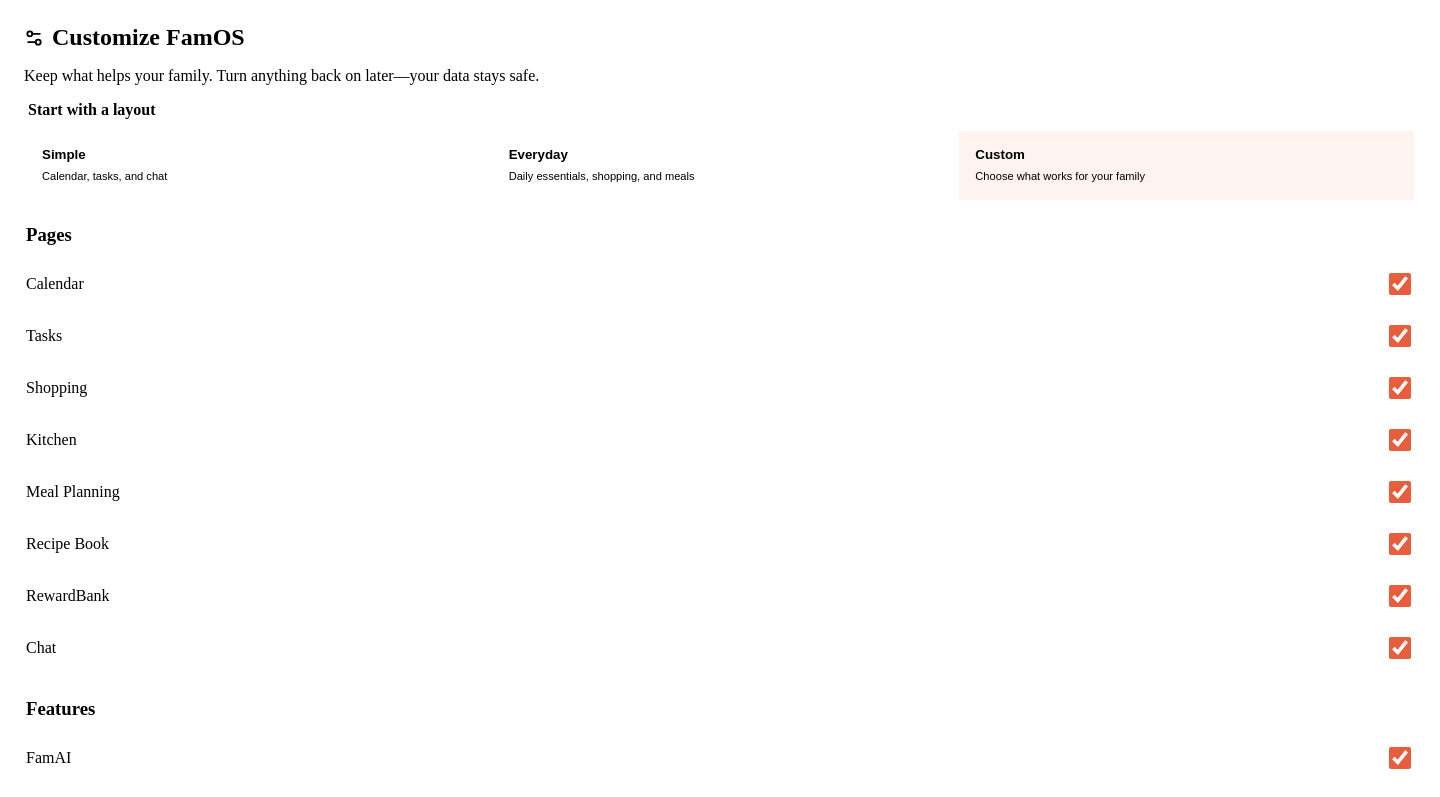
Scenario: previews a simple layout without saving until confirmed
This screenshot has width=1440, height=797.
Click the button "Simple Calendar, tasks, and chat" at (64, 154), box [26, 131, 481, 200]
(page scrolled)
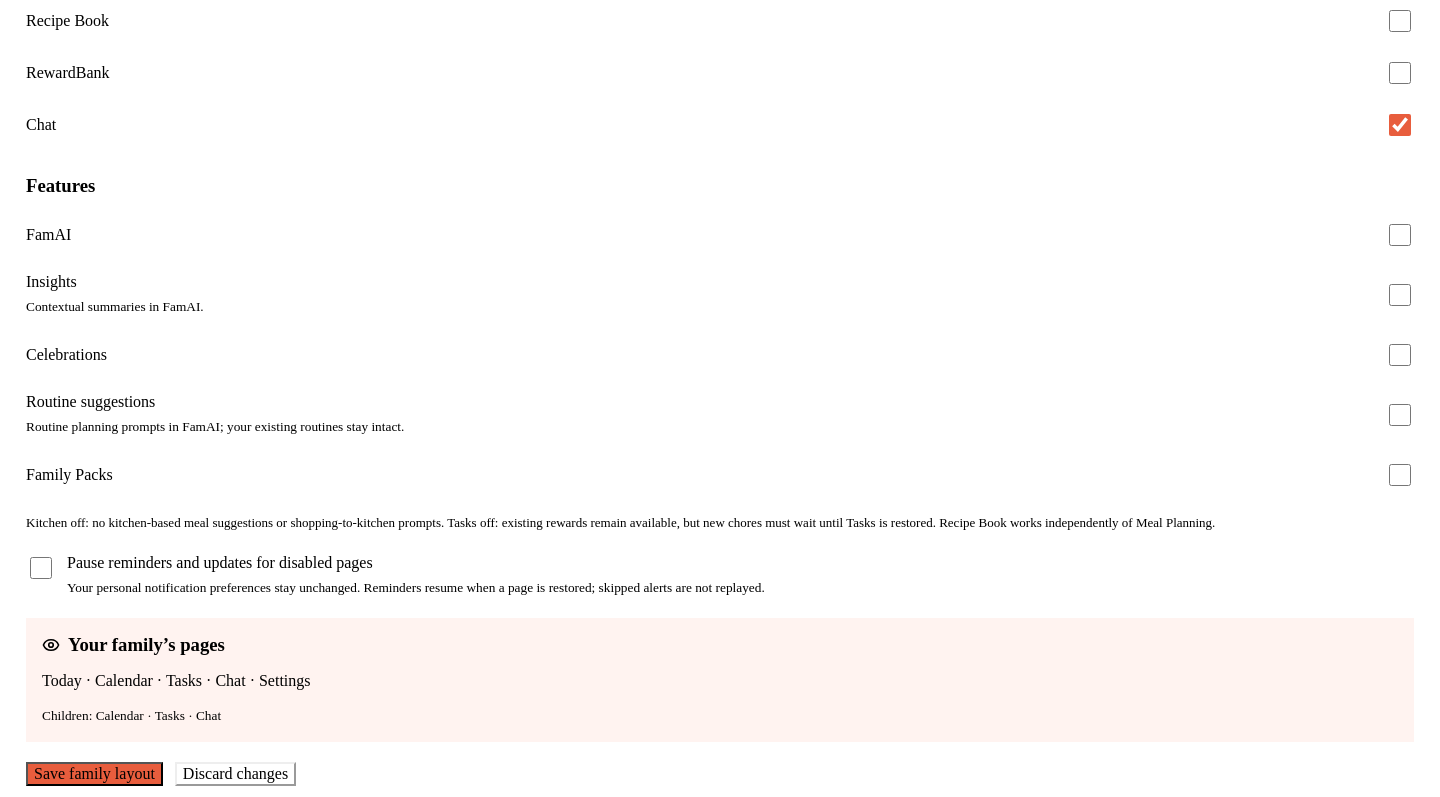
Click the button "Save family layout" at (94, 774), box [26, 762, 163, 786]
(page scrolled)
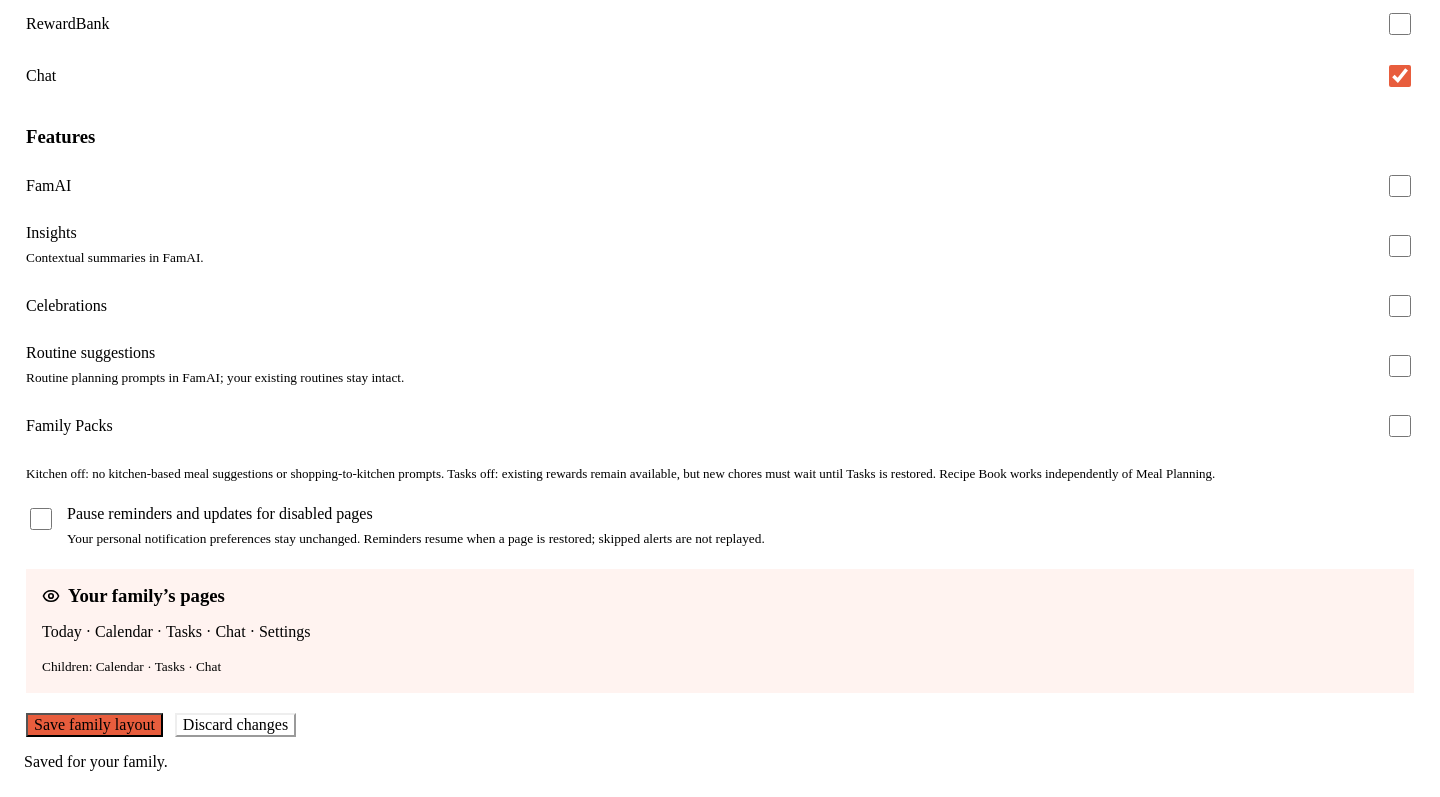
Now the text "Saved for your family." is shown, box [24, 753, 168, 770]
